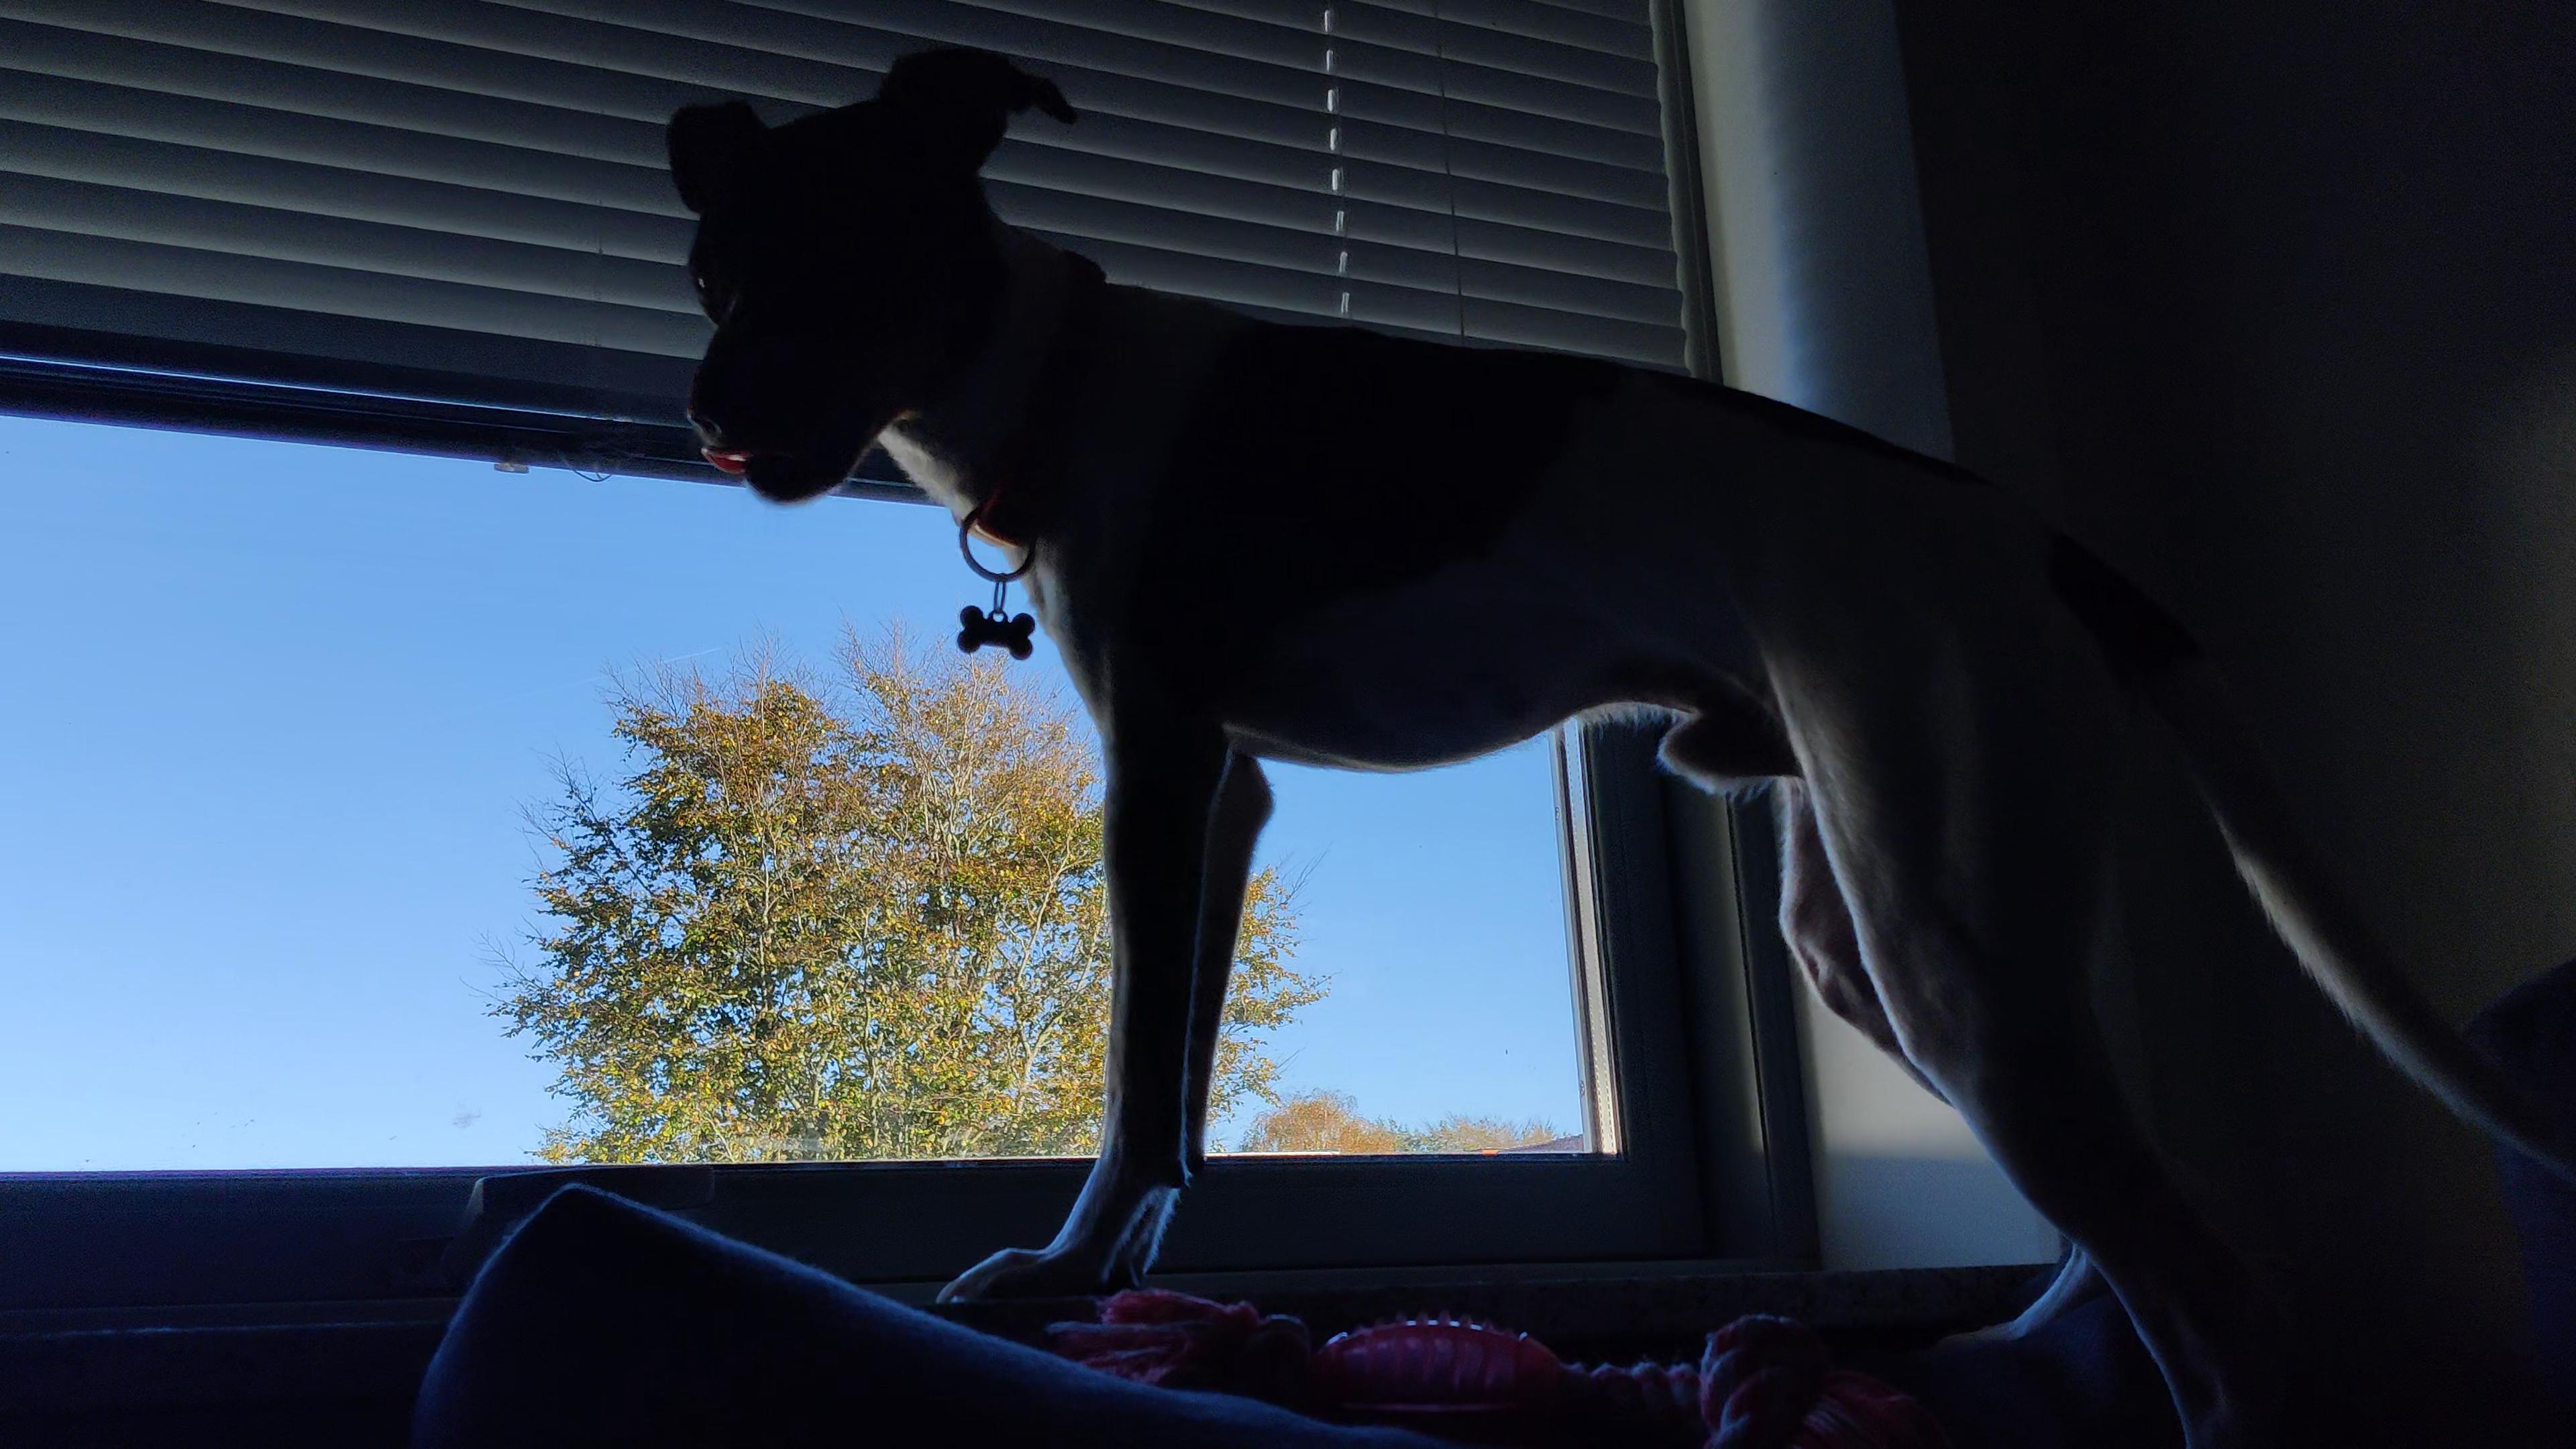Dog: (644, 27, 2576, 1449)
